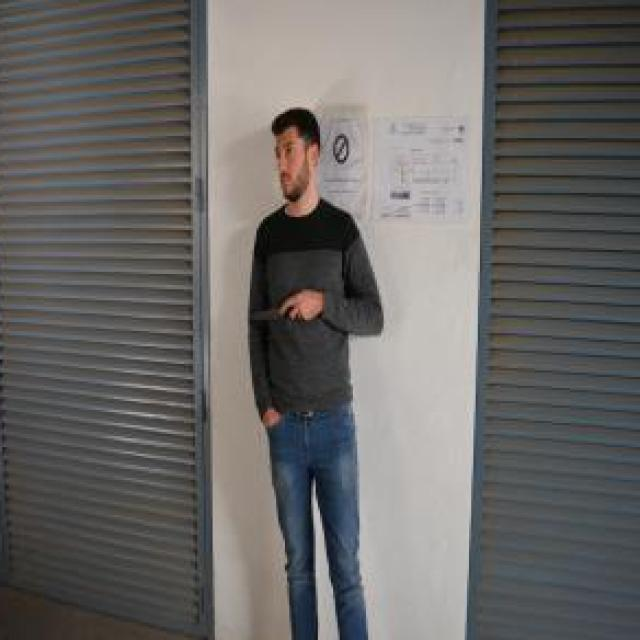knife: (249, 294, 298, 324)
